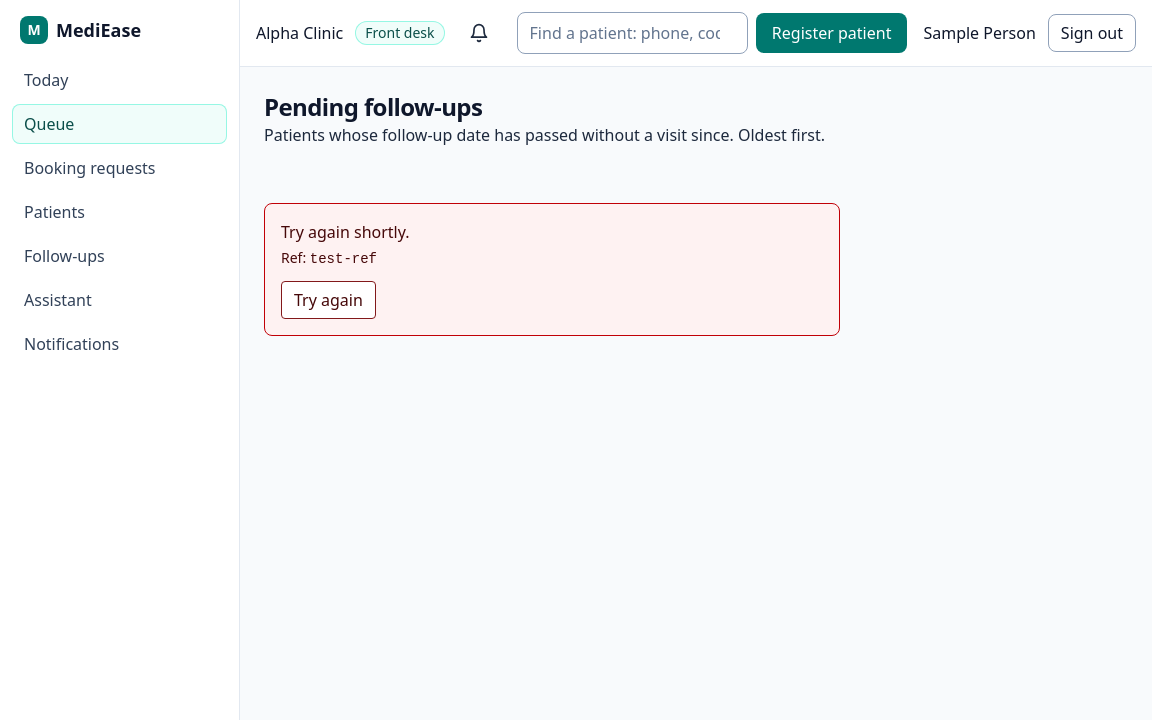
Test case: pending follow-ups (FR-REM-07, R17; M5-P6 decision 4A) › says so when nothing is overdue, and a failure shows the Ref
This screenshot has width=1152, height=720.
Expected: the message "Try again shortly. Ref: test-ref Try again" is shown, x1=264 y1=203 x2=840 y2=336
Click the button "Try again": (328, 300) x1=281 y1=281 x2=376 y2=319
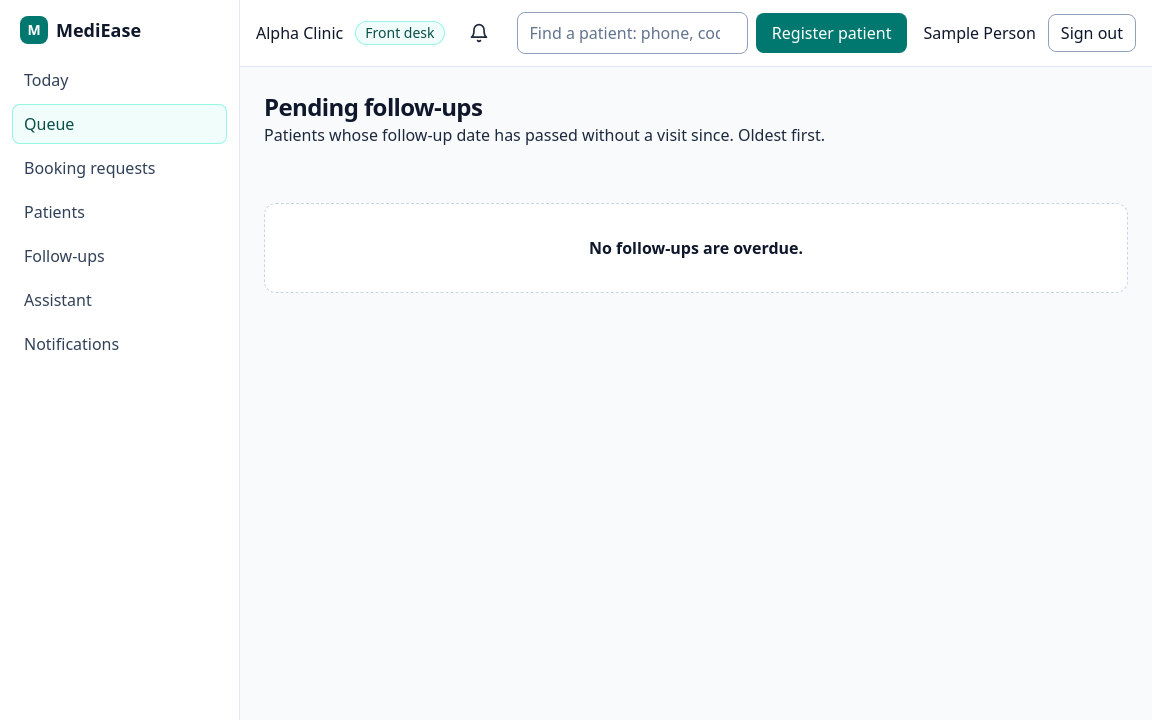
Expected: the text "No follow-ups are overdue." is shown, x1=589 y1=237 x2=803 y2=259
